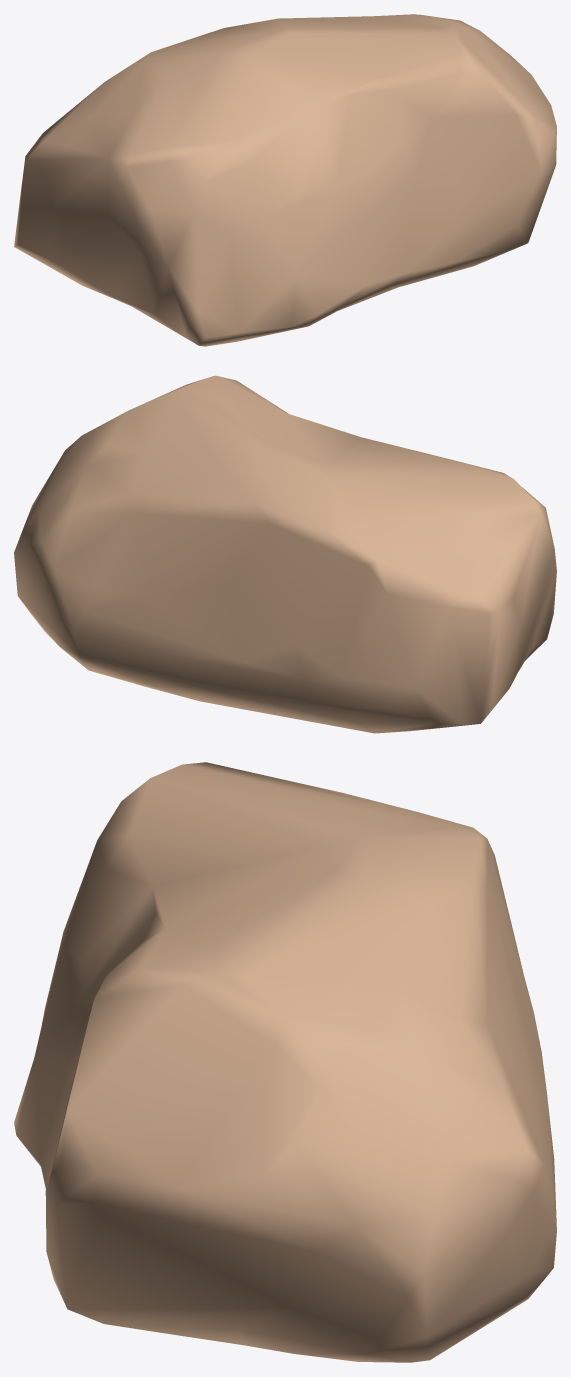
Rendered from Rock_4c.gltf.
3 views of the same model, one above another, from view 1: azimuth 30°, elevation 25°; view 2: azimuth 150°, elevation 25°; view 3: azimuth 270°, elevation 25° (orthographic). The views are drawn at different scales.
Parts seen in each view (by area): view 1: Rock_4c; view 2: Rock_4c; view 3: Rock_4c.
Boxes of the visible parts, box(x1,y1,x2,y2) form: Rock_4c: box(14, 14, 556, 346); Rock_4c: box(14, 375, 556, 733); Rock_4c: box(14, 762, 556, 1362).
Bounding box in the file's own units: 49.93 × 23.38 × 30.55.
Materials: 1 (1 with a texture image).
